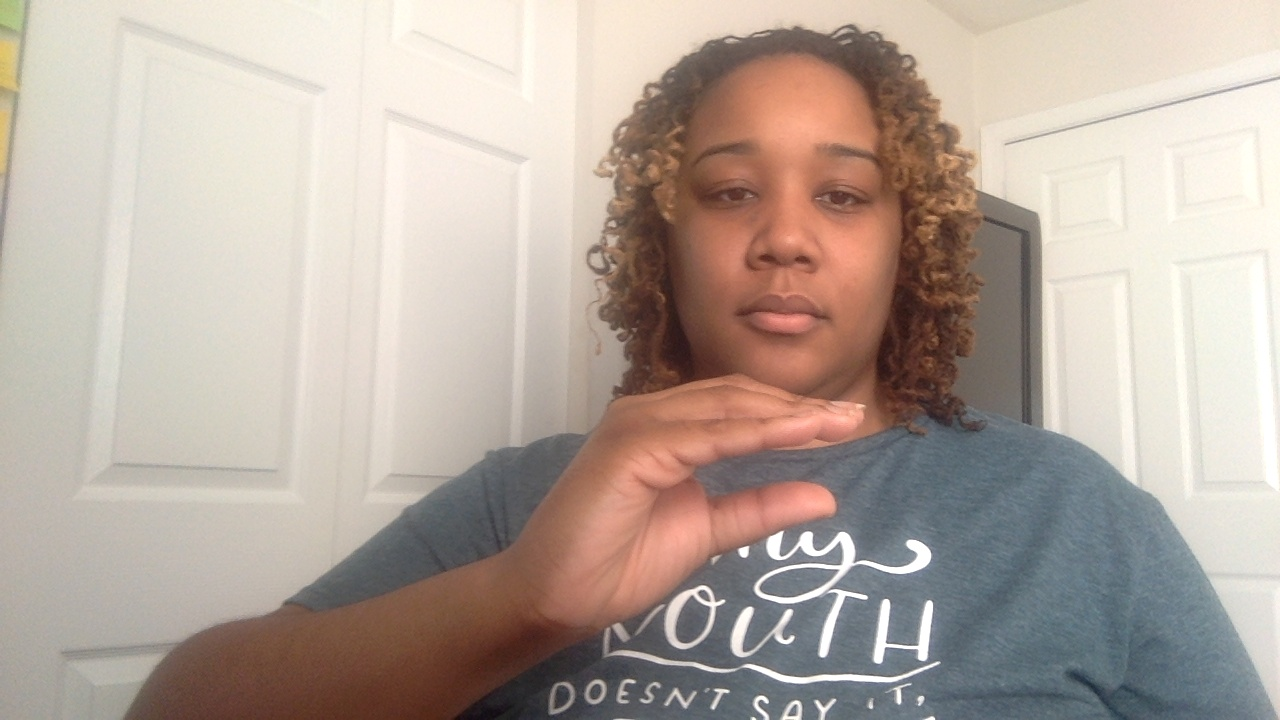no: (506, 364, 873, 638)
